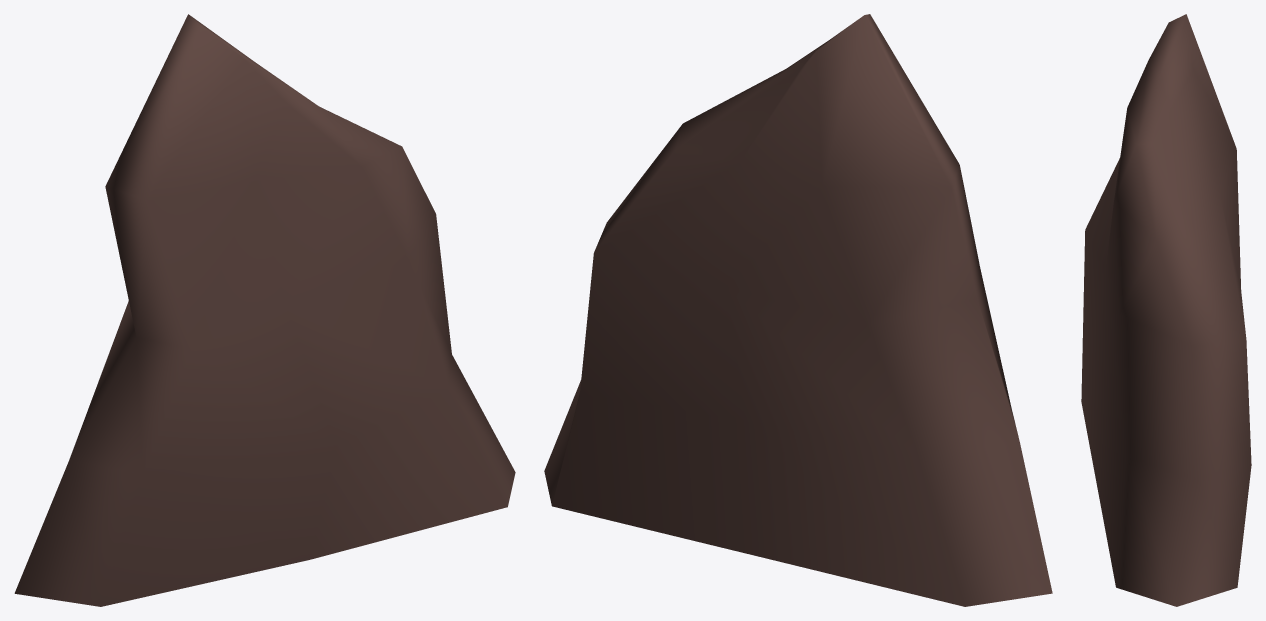
File: Rock two.fbx
The picture shows the model from 3 angles, left to right: view 1: azimuth 30°, elevation 25°; view 2: azimuth 150°, elevation 25°; view 3: azimuth 270°, elevation 25°; orthographic projection. The views are drawn at different scales.
Parts seen in each view (by area): view 1: Rock2; view 2: Rock2; view 3: Rock2.
Boxes of the visible parts, x1,y1,x2,y2 form: Rock2: (14, 14, 515, 606); Rock2: (544, 14, 1052, 606); Rock2: (1081, 14, 1251, 606).
Size of the model in its own units: 2809 by 2851 by 960.
